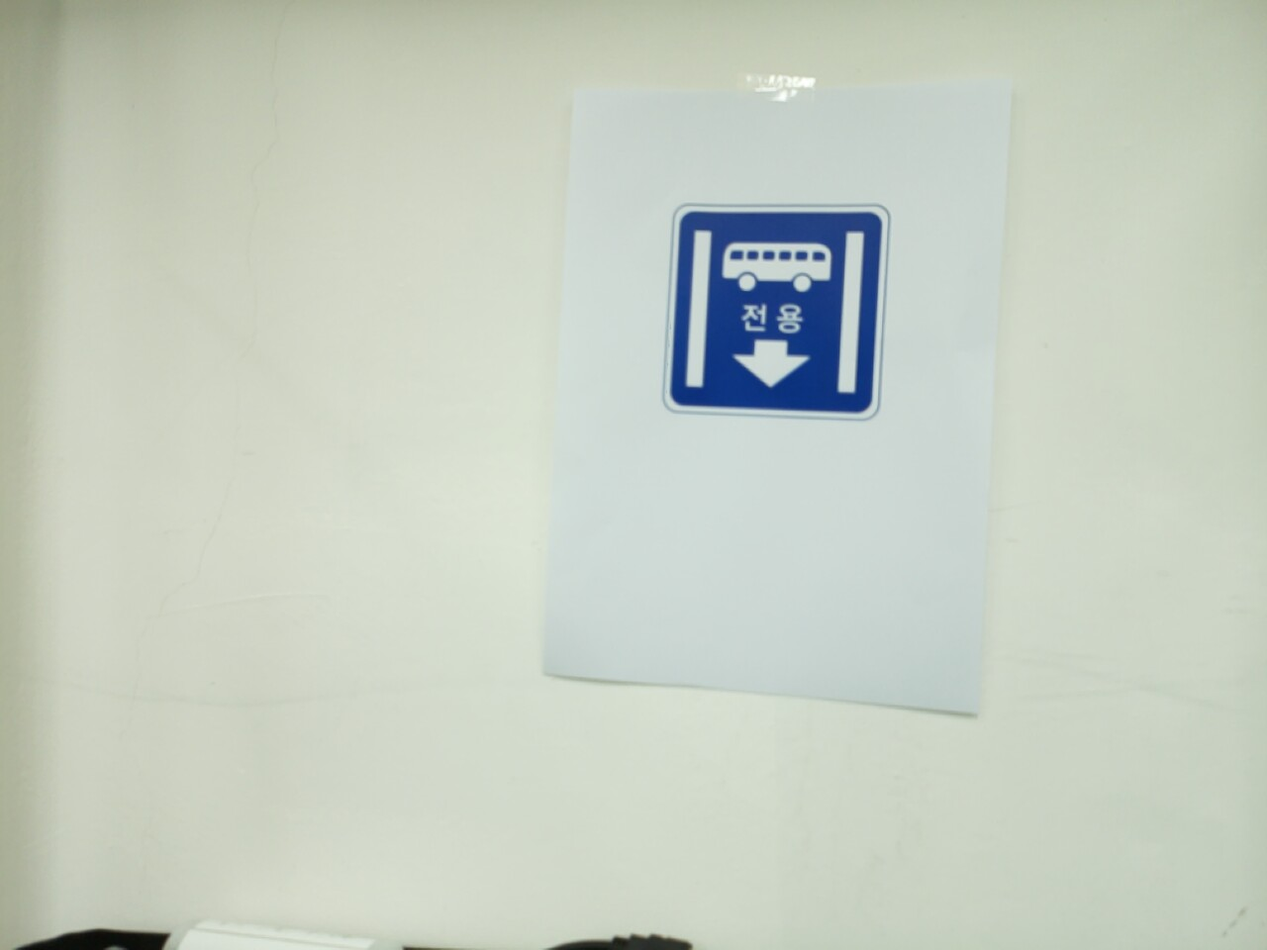bus_only_lane: (662, 203, 890, 422)
